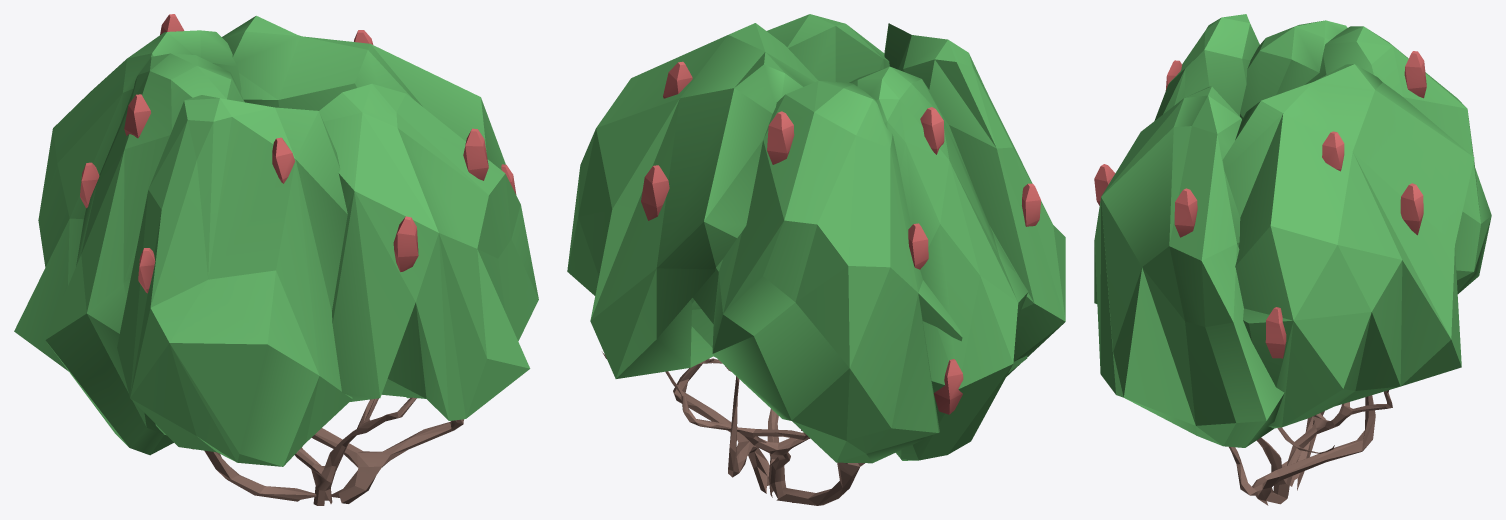
File: bush_003.glb
3 renders of one model, left to right at view 1: azimuth 30°, elevation 25°; view 2: azimuth 150°, elevation 25°; view 3: azimuth 270°, elevation 25°, orthographic. The views are drawn at different scales.
Parts seen in each view (by area): view 1: bush_003; view 2: bush_003; view 3: bush_003.
Part boxes in pixels (box(x1,y1,x2,y2)): bush_003: box(14, 14, 538, 505); bush_003: box(567, 14, 1065, 505); bush_003: box(1094, 14, 1491, 505).
Size of the model in its own units: 1.46 by 1.41 by 1.2.
1 material, 1 textured.
